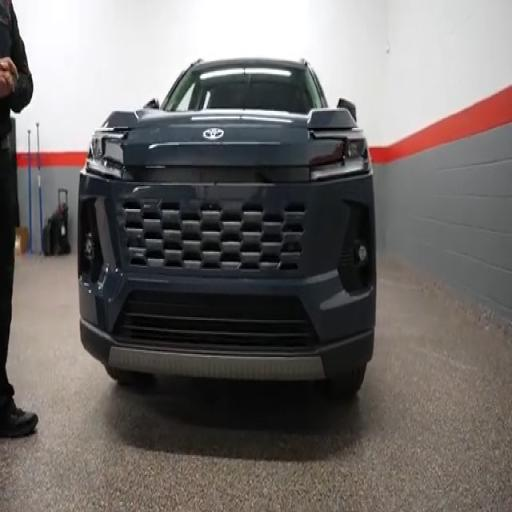bumper: (79, 174, 375, 379), (80, 320, 373, 381)
emblem: (203, 128, 223, 140)
fog_light: (84, 232, 95, 263), (357, 245, 367, 264)
grille: (123, 200, 305, 270), (114, 291, 317, 348)
headlight: (311, 137, 371, 180), (85, 131, 124, 179)
side_mirror: (337, 99, 356, 120), (144, 99, 159, 109)
tire: (105, 365, 153, 386)
wheel: (323, 365, 366, 399)
windshield: (163, 67, 322, 113)
